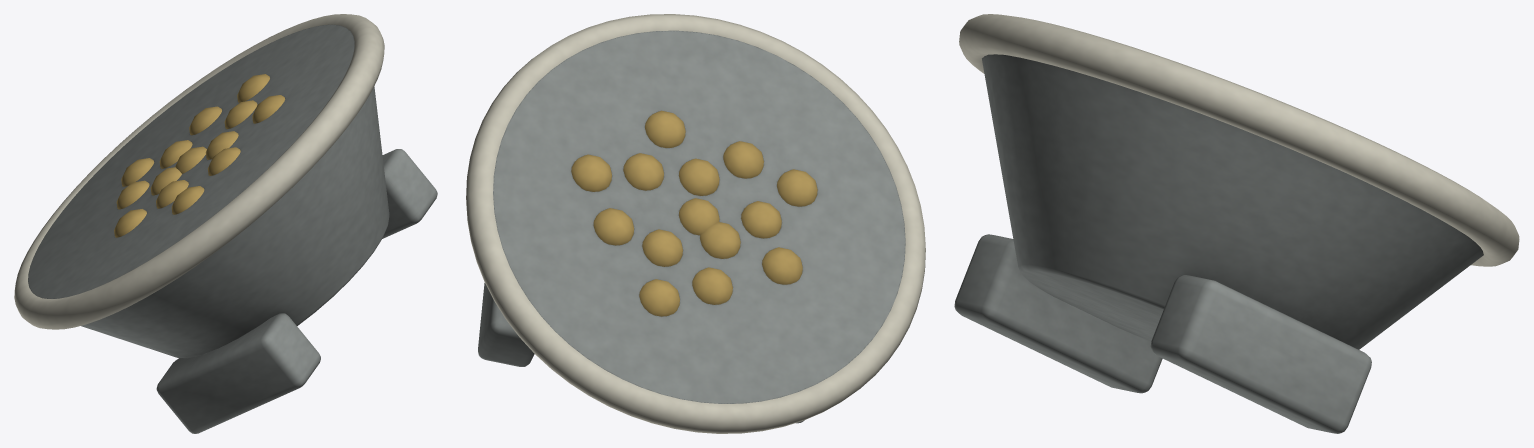
3 renders of one model, left to right at view 1: azimuth 30°, elevation 25°; view 2: azimuth 150°, elevation 25°; view 3: azimuth 270°, elevation 25°, orthographic. The views are drawn at different scales.
Parts seen in each view (by area): view 1: Conical assay hopper; view 2: Conical assay hopper; view 3: Conical assay hopper.
Boxes of the visible parts, x1,y1,x2,y2 form: Conical assay hopper: (14, 14, 437, 433); Conical assay hopper: (466, 14, 925, 433); Conical assay hopper: (954, 14, 1519, 433).
Size of the model in its own units: 1.02 by 0.8584 by 0.971.
1 material, 1 textured.
